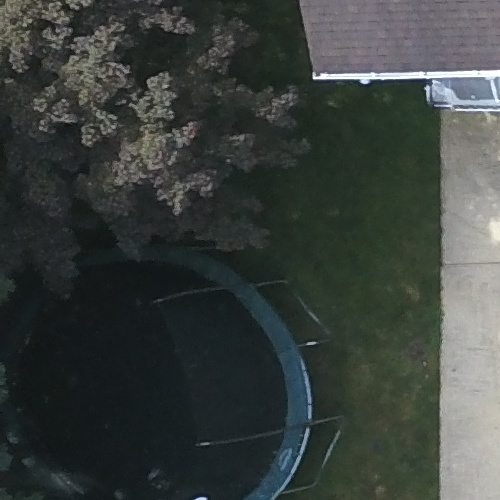no larvae: (1, 201, 395, 495)
trampoline: (1, 203, 395, 497)
